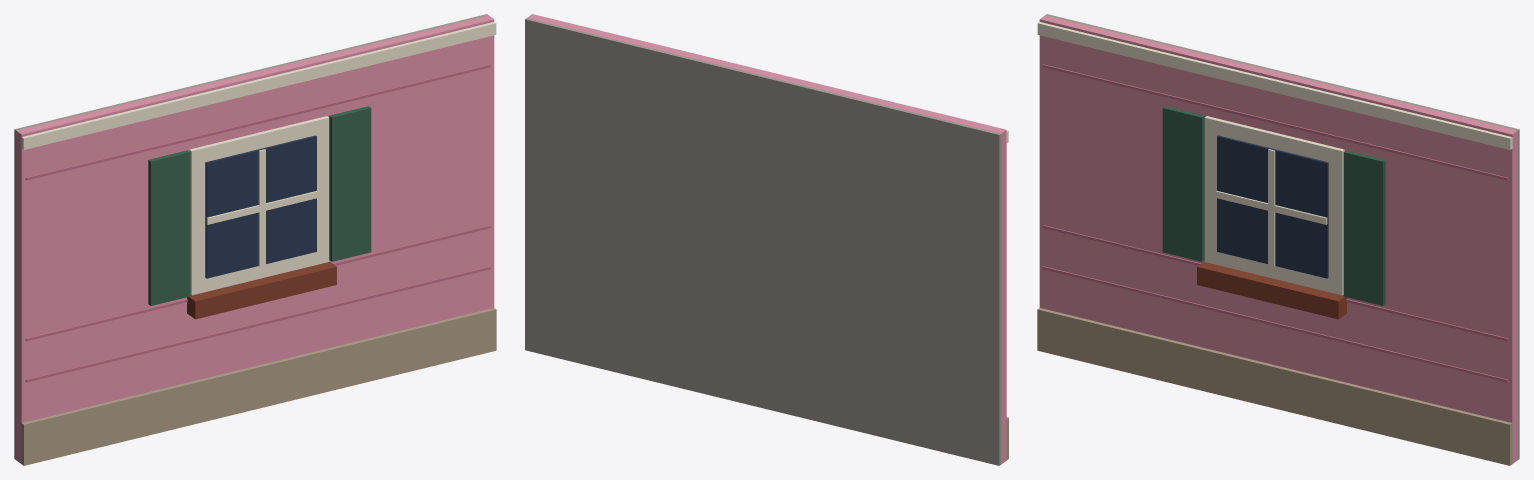
File: chalet_side.glb
3 views of the same model, side by side, from view 1: azimuth 30°, elevation 25°; view 2: azimuth 150°, elevation 25°; view 3: azimuth 330°, elevation 25° (orthographic).
Visible parts, largest first — view 1: chalet_side; view 2: chalet_side; view 3: chalet_side.
Boxes of the visible parts, x1,y1,x2,y2 form: chalet_side: [14, 14, 496, 465]; chalet_side: [525, 14, 1008, 465]; chalet_side: [1037, 14, 1519, 465].
Size of the model in its own units: 6 by 4 by 0.34.
